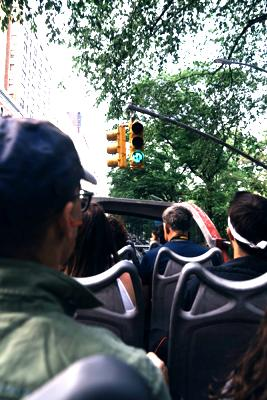International Road Signal Light: (107, 125, 127, 168), (128, 120, 145, 170)
